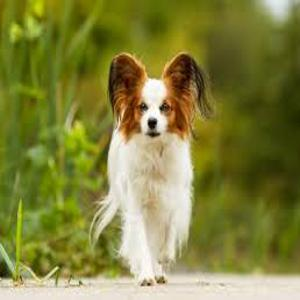yell: (89, 52, 211, 285)
